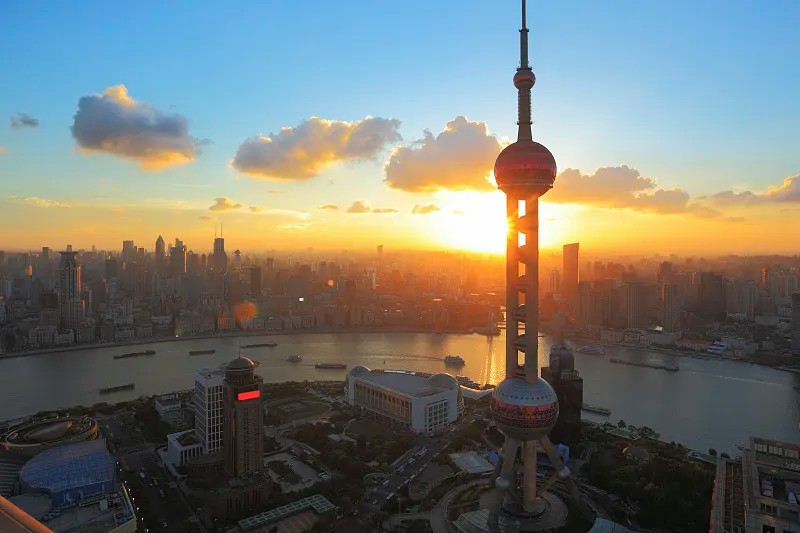Oriental: (487, 1, 583, 523)
